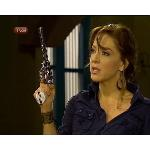Pistol: (31, 27, 53, 105)
